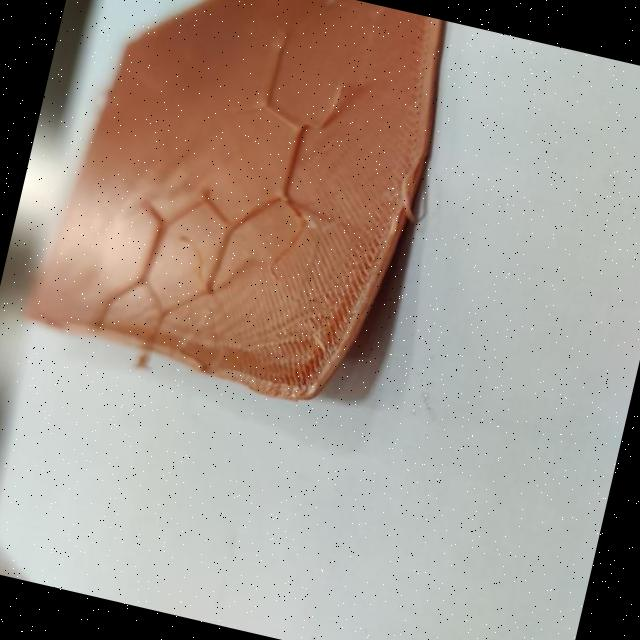cracks: (219, 152, 456, 426)
